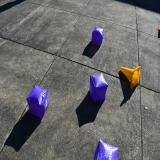cone: (120, 66, 140, 90), (159, 26, 160, 29)
cube: (26, 84, 49, 120), (88, 72, 108, 102), (94, 139, 118, 160), (92, 26, 104, 47)
